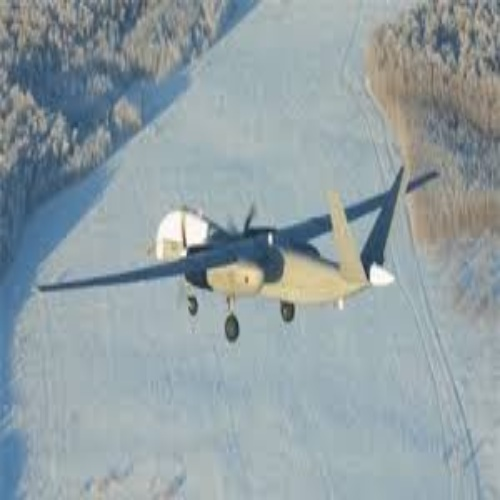uav566: (38, 164, 439, 343)
